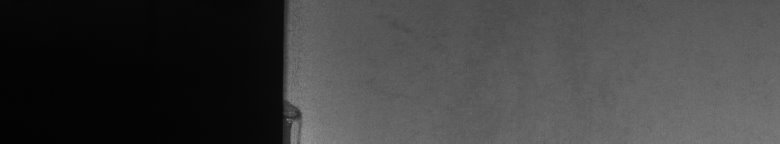hb: (292, 98, 309, 136)
